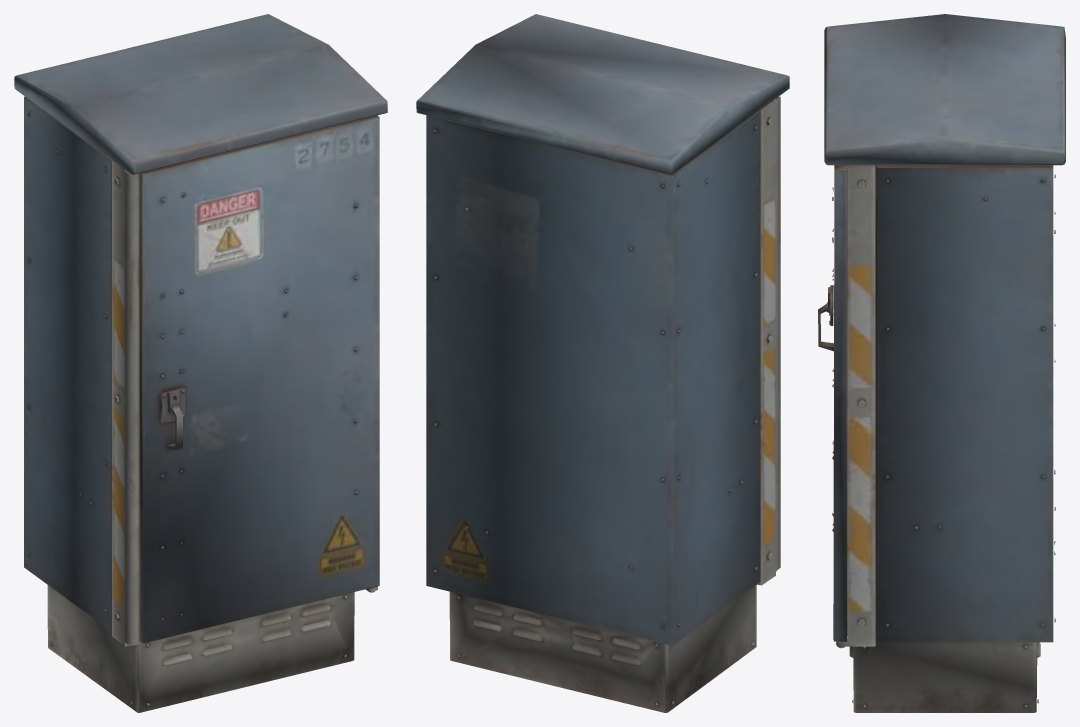
Rendered from utility_box_01.glb.
3 renders of one model, left to right at view 1: azimuth 30°, elevation 25°; view 2: azimuth 150°, elevation 25°; view 3: azimuth 270°, elevation 25°, orthographic.
Visible parts, largest first — view 1: utility_box_01_box; view 2: utility_box_01_box; view 3: utility_box_01_box.
Boxes of the visible parts, <box> form: utility_box_01_box: <box>14,14,387,712</box>; utility_box_01_box: <box>416,14,789,712</box>; utility_box_01_box: <box>818,14,1065,712</box>.
Size of the model in its own units: 0.52 by 1.12 by 0.4311.
Materials: 1 (1 with a texture image).
